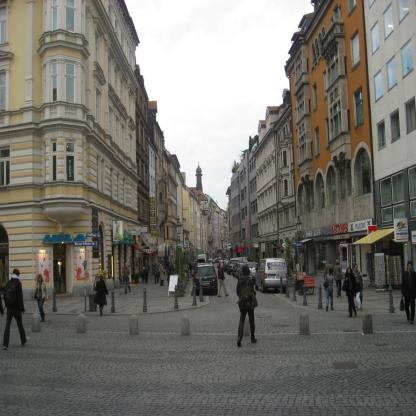Car: (218, 257, 258, 284), (192, 263, 218, 295), (208, 258, 224, 264)
